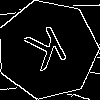K: (23, 25, 74, 81)
